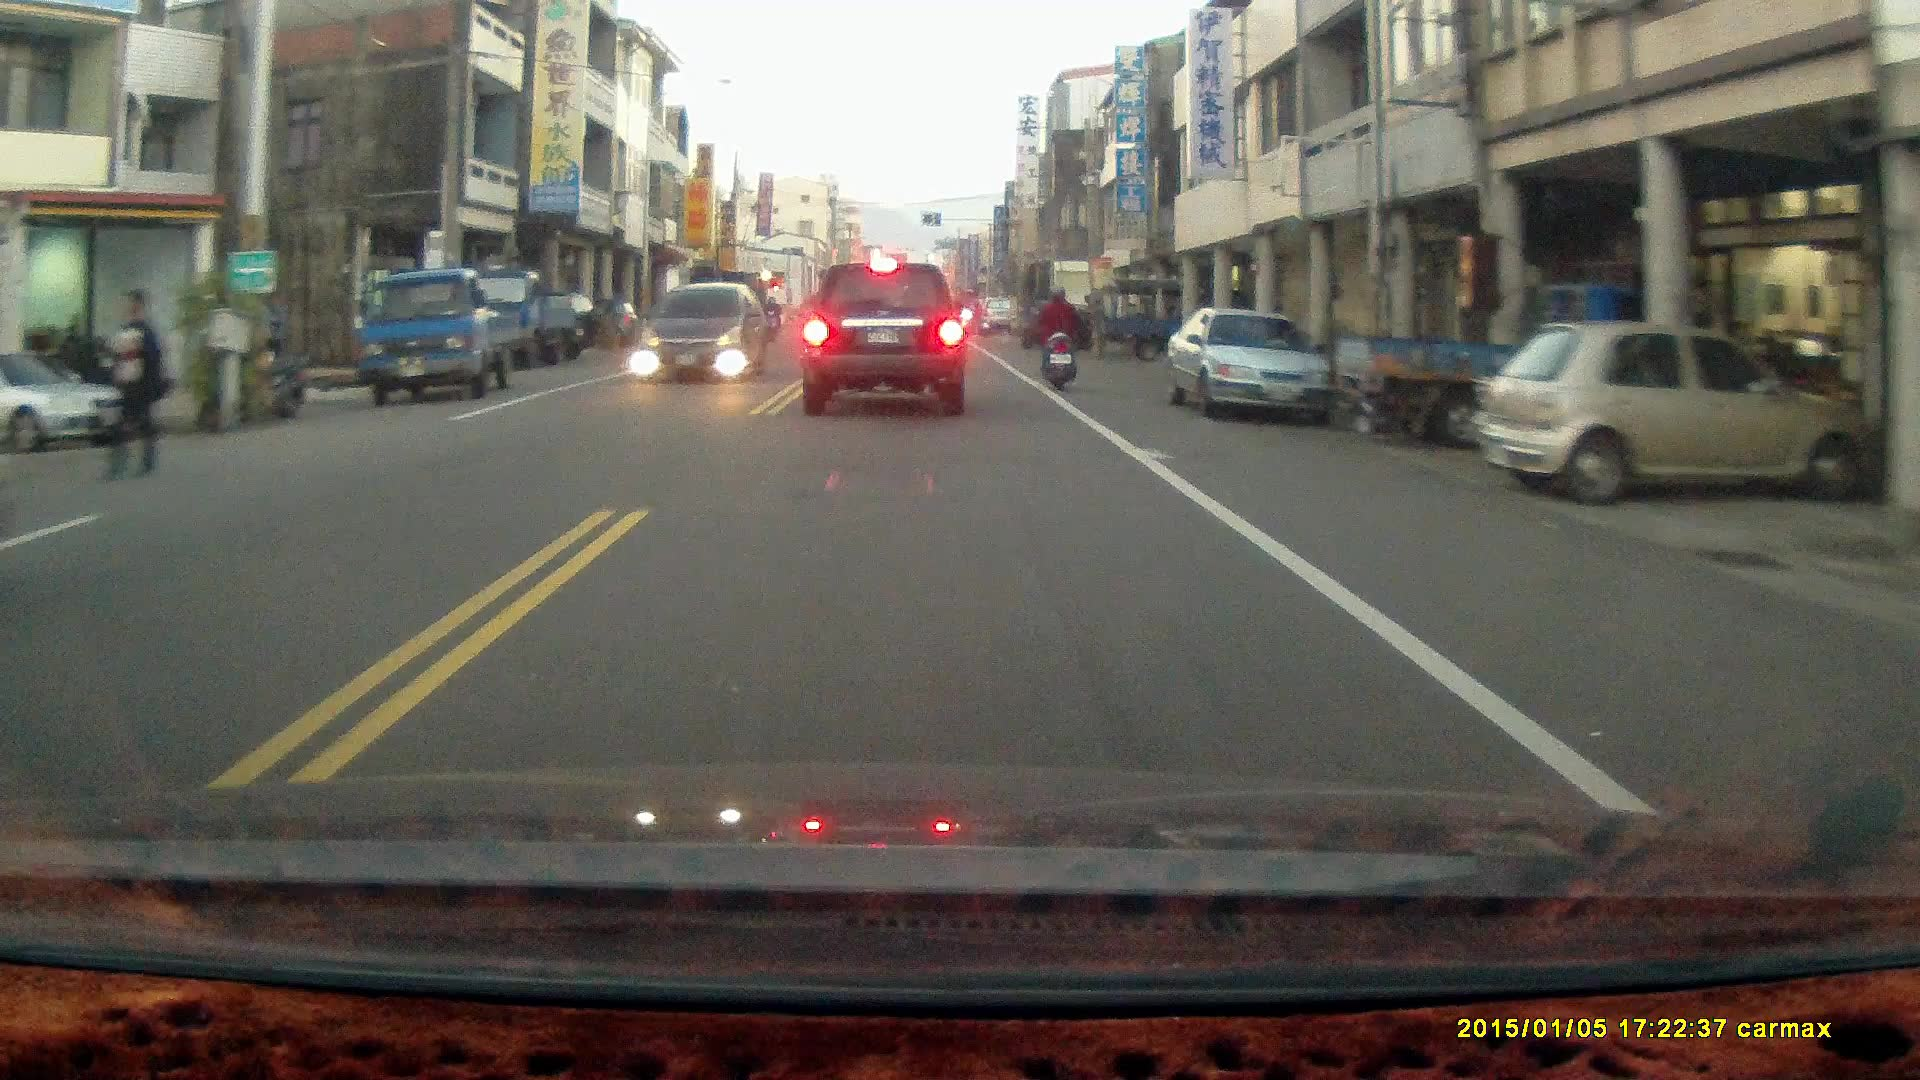pedestrian: (88, 288, 165, 478), (266, 291, 293, 375)
rider: (1035, 281, 1078, 388)
vehicle: (1488, 317, 1844, 510), (795, 255, 970, 417), (361, 265, 532, 403), (1166, 307, 1340, 419), (1, 347, 138, 450), (641, 279, 768, 381)
